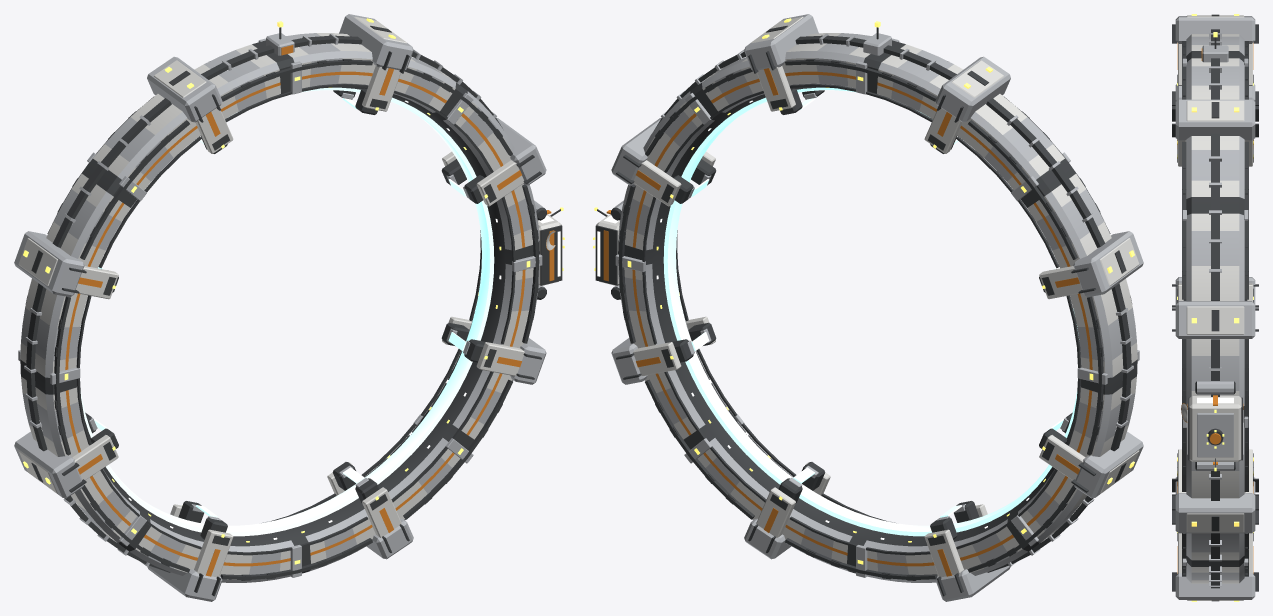
File: jump_gate.glb
3 renders of one model, left to right at view 1: azimuth 30°, elevation 25°; view 2: azimuth 150°, elevation 25°; view 3: azimuth 270°, elevation 25°, orthographic. The views are drawn at different scales.
Visible parts, largest first — view 1: gate_ring, gate_pylons, gate_structure, gate_emitter; view 2: gate_ring, gate_pylons, gate_structure, gate_emitter; view 3: gate_ring, gate_pylons, gate_structure.
Boxes of the visible parts, left/top/right/bottom form: gate_ring: left=20, top=33, right=539, bottom=582; gate_pylons: left=14, top=14, right=546, bottom=601; gate_structure: left=18, top=21, right=564, bottom=580; gate_emitter: left=78, top=87, right=494, bottom=536; gate_ring: left=618, top=33, right=1137, bottom=582; gate_pylons: left=611, top=14, right=1143, bottom=601; gate_structure: left=593, top=21, right=1139, bottom=580; gate_emitter: left=663, top=87, right=1079, bottom=536; gate_ring: left=1186, top=34, right=1244, bottom=583; gate_pylons: left=1172, top=14, right=1258, bottom=601; gate_structure: left=1181, top=29, right=1248, bottom=588.
Bounding box in the file's own units: 225 × 221 × 32.8.
